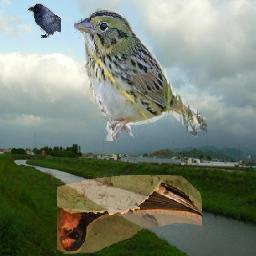Crow: (27, 4, 61, 39)
Sparrow: (75, 7, 208, 141)
Swallow: (58, 176, 203, 255)
